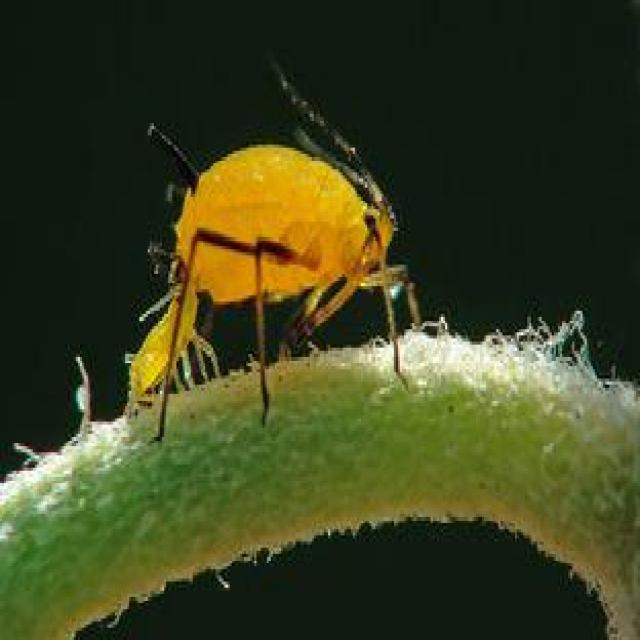Aphids: (104, 112, 452, 416)
